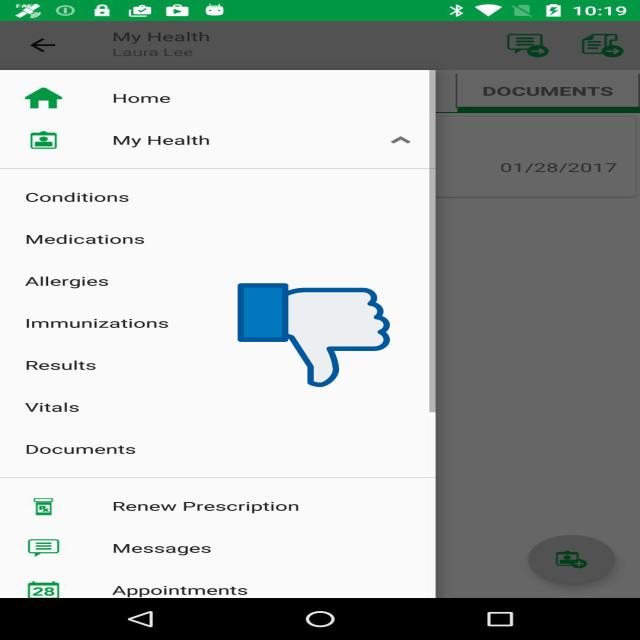obstruction: (238, 281, 390, 389)
